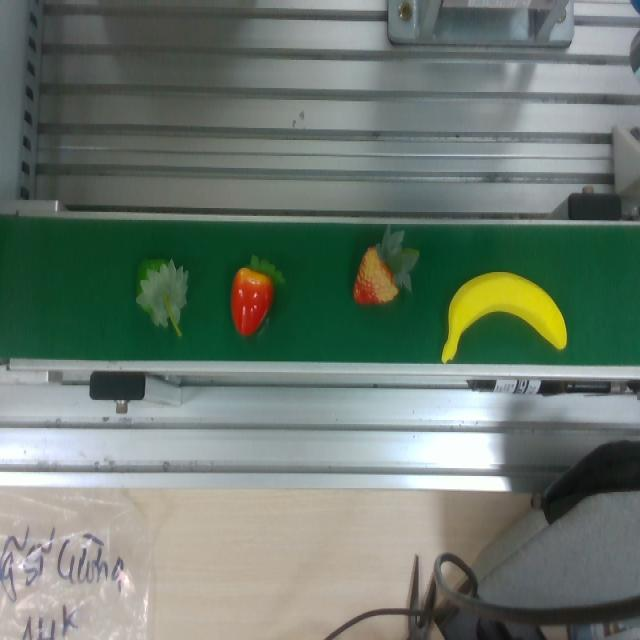Moldy Strawberry: (348, 227, 413, 314)
None - Strawberry: (436, 266, 576, 362)
Small Unripe Strawberry: (136, 234, 193, 334), (228, 255, 278, 337)
conveyor: (1, 206, 638, 373)
